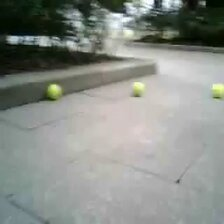tennis: (47, 84, 61, 99), (210, 84, 224, 99), (130, 82, 144, 95)
